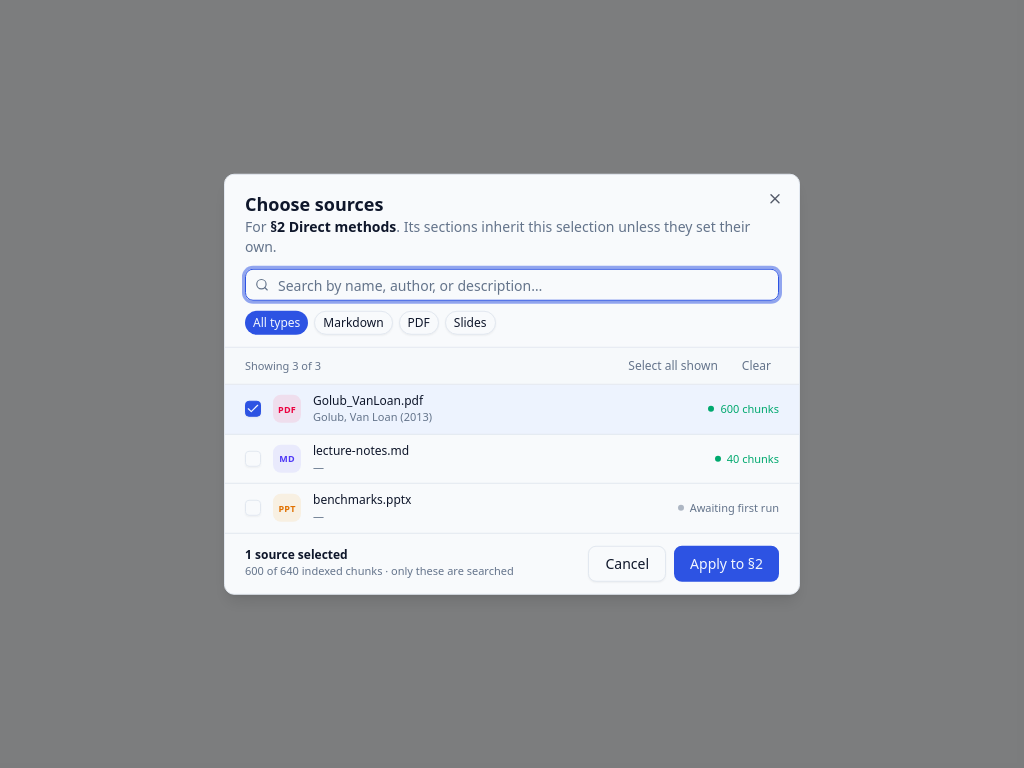
Test: SourceScopePicker › "Select all shown" / "Clear", and warns about selected sources that are not indexed
Check: the checkbox named "Golub_VanLoan.pdf" is checked, box [245,401,261,417]
Click the button "Select all shown" at (673, 366), box [620,354,726,378]
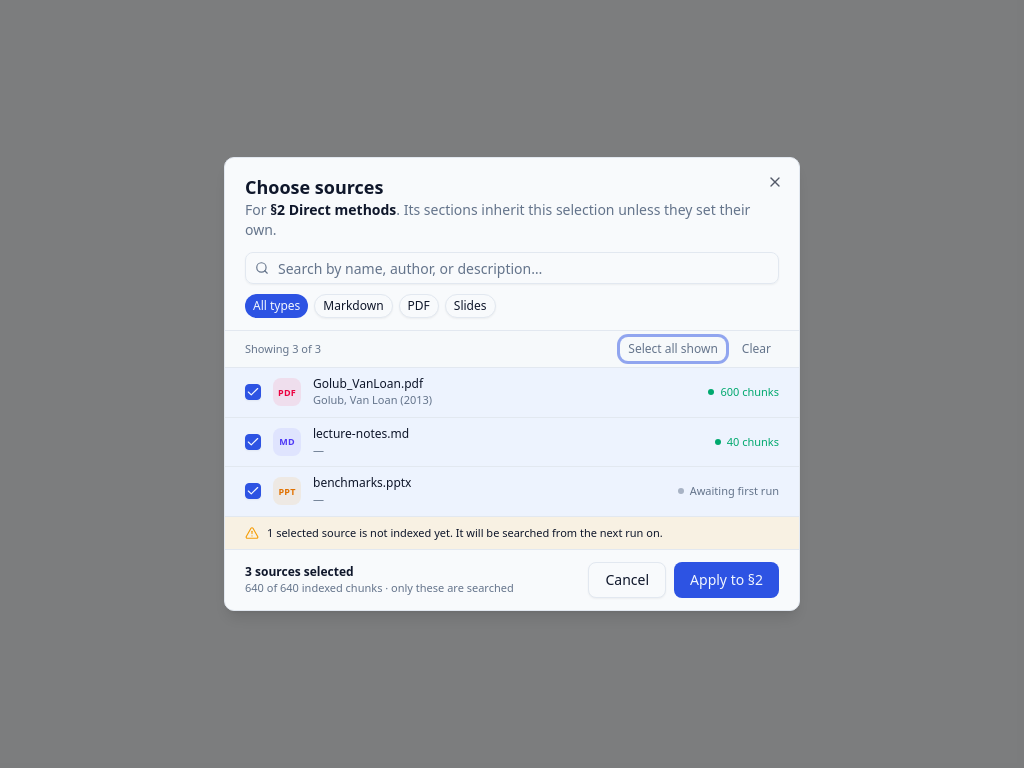
Check: the text "3 sources selected" is shown, box [245,563,354,580]
Check: the text "1 selected source is not indexed yet" is shown, box [267,524,663,540]
Click the button "Clear" at (756, 349), box [734,337,779,361]
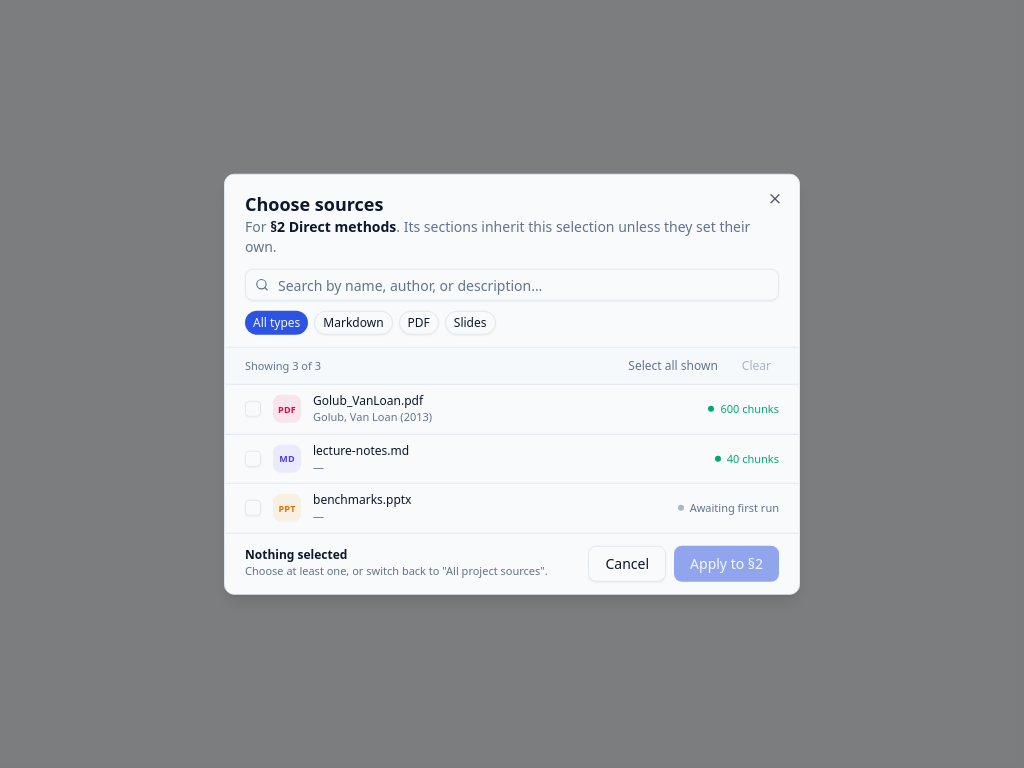
Check: the text "Nothing selected" is shown, box [245,546,347,563]
